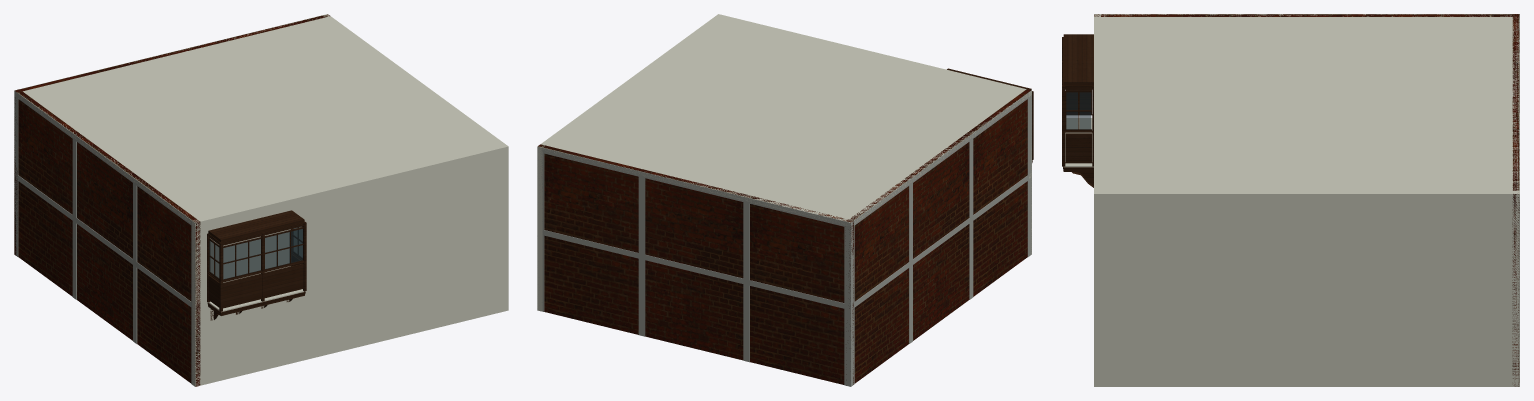
The model's file is building.glb.
The picture shows the model from 3 angles, left to right: view 1: azimuth 30°, elevation 25°; view 2: azimuth 150°, elevation 25°; view 3: azimuth 270°, elevation 25°; orthographic projection. The views are drawn at different scales.
Parts seen in each view (by area): view 1: roof/house:0/roof_slab#0001, house:0/edge0/z0/house:0/edge0/z0/wall_0_0, house:0/edge3/z0/house:0/edge3/z0/wall_0_0, balcony/sample/balcony_cover#0001, house:0/edge2/z0/house:0/edge2/z0/wall_0_0, house:0/edge3/z0/house:0/edge3/z0/beam_0_0, house:0/edge3/z0/house:0/edge3/z0/beam_1_0, house:0/edge1/z0/house:0/edge1/z0/wall_0_0, balcony/sample/balcony_panel#0003, balcony/sample/balcony_panel#0002, balcony/sample/balcony_fascia#0001; view 2: roof/house:0/roof_slab#0001, house:0/edge2/z0/house:0/edge2/z0/wall_0_0, house:0/edge3/z0/house:0/edge3/z0/wall_0_0, house:0/edge1/z0/house:0/edge1/z0/wall_0_0, house:0/edge2/z0/house:0/edge2/z0/beam_0_0, house:0/edge2/z0/house:0/edge2/z0/beam_1_0, house:0/edge3/z0/house:0/edge3/z0/beam_0_0, house:0/edge0/z0/house:0/edge0/z0/wall_0_0, house:0/edge3/z0/house:0/edge3/z0/beam_1_0, house:0/edge2/z0/house:0/edge2/z0/column_2_0, house:0/edge2/z0/house:0/edge2/z0/column_1_1, house:0/edge2/z0/house:0/edge2/z0/column_2_1 (+3 smaller); view 3: house:0/edge1/z0/house:0/edge1/z0/wall_0_0, roof/house:0/roof_slab#0001, house:0/edge0/z0/house:0/edge0/z0/wall_0_0, house:0/edge2/z0/house:0/edge2/z0/wall_0_0, balcony/sample/balcony_cover#0001, house:0/edge3/z0/house:0/edge3/z0/wall_0_0, balcony/sample/balcony_panel#0004, balcony/sample/balcony_panel#0001, balcony/sample/balcony_platform#0001, balcony/sample/balcony_enclosure_glass#0010, balcony/sample/balcony_enclosure_glass#0009.
Part boxes in pixels (x1,y1,x2,y2): roof/house:0/roof_slab#0001: [16, 15, 507, 225]; house:0/edge0/z0/house:0/edge0/z0/wall_0_0: [192, 144, 508, 386]; house:0/edge3/z0/house:0/edge3/z0/wall_0_0: [17, 89, 200, 386]; balcony/sample/balcony_cover#0001: [208, 210, 304, 242]; house:0/edge2/z0/house:0/edge2/z0/wall_0_0: [14, 14, 329, 255]; house:0/edge3/z0/house:0/edge3/z0/beam_0_0: [14, 173, 195, 309]; house:0/edge3/z0/house:0/edge3/z0/beam_1_0: [14, 91, 195, 228]; house:0/edge1/z0/house:0/edge1/z0/wall_0_0: [323, 14, 508, 311]; balcony/sample/balcony_panel#0003: [264, 263, 303, 297]; balcony/sample/balcony_panel#0002: [223, 273, 261, 308]; balcony/sample/balcony_fascia#0001: [207, 291, 305, 315]; roof/house:0/roof_slab#0001: [540, 14, 1031, 225]; house:0/edge2/z0/house:0/edge2/z0/wall_0_0: [538, 144, 853, 384]; house:0/edge3/z0/house:0/edge3/z0/wall_0_0: [846, 89, 1030, 383]; house:0/edge1/z0/house:0/edge1/z0/wall_0_0: [537, 14, 721, 311]; house:0/edge2/z0/house:0/edge2/z0/beam_0_0: [542, 230, 851, 310]; house:0/edge2/z0/house:0/edge2/z0/beam_1_0: [538, 146, 851, 228]; house:0/edge3/z0/house:0/edge3/z0/beam_0_0: [850, 172, 1031, 309]; house:0/edge0/z0/house:0/edge0/z0/wall_0_0: [716, 14, 1031, 253]; house:0/edge3/z0/house:0/edge3/z0/beam_1_0: [850, 90, 1031, 227]; house:0/edge2/z0/house:0/edge2/z0/column_2_0: [638, 177, 645, 254]; house:0/edge2/z0/house:0/edge2/z0/column_1_1: [844, 227, 851, 304]; house:0/edge2/z0/house:0/edge2/z0/column_2_1: [638, 259, 645, 336]; house:0/edge1/z0/house:0/edge1/z0/wall_0_0: [1094, 191, 1519, 386]; roof/house:0/roof_slab#0001: [1094, 14, 1519, 198]; house:0/edge0/z0/house:0/edge0/z0/wall_0_0: [1094, 14, 1100, 386]; house:0/edge2/z0/house:0/edge2/z0/wall_0_0: [1512, 14, 1519, 386]; balcony/sample/balcony_cover#0001: [1063, 34, 1093, 85]; house:0/edge3/z0/house:0/edge3/z0/wall_0_0: [1094, 14, 1519, 16]; balcony/sample/balcony_panel#0004: [1065, 133, 1091, 163]; balcony/sample/balcony_panel#0001: [1066, 89, 1091, 115]; balcony/sample/balcony_platform#0001: [1064, 118, 1093, 167]; balcony/sample/balcony_enclosure_glass#0010: [1079, 92, 1091, 129]; balcony/sample/balcony_enclosure_glass#0009: [1066, 92, 1077, 129].
Bounding box in the file's own units: 12 × 6 × 12.89.
5 materials, 2 textured.
